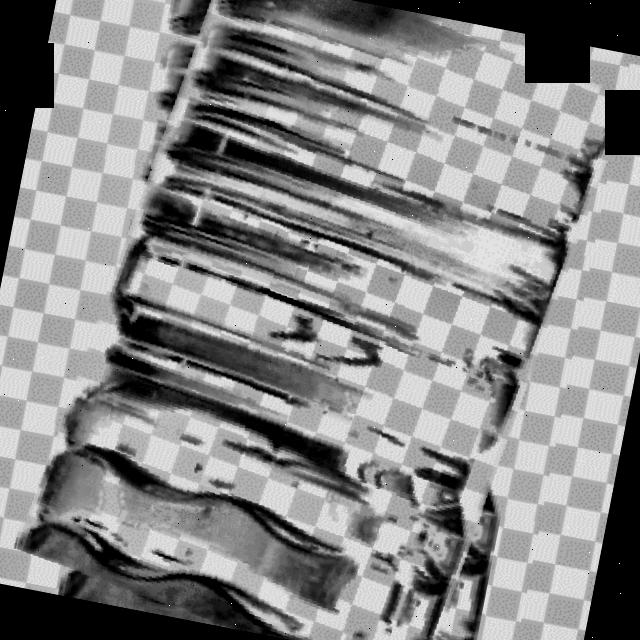bottle: (16, 0, 621, 640)
